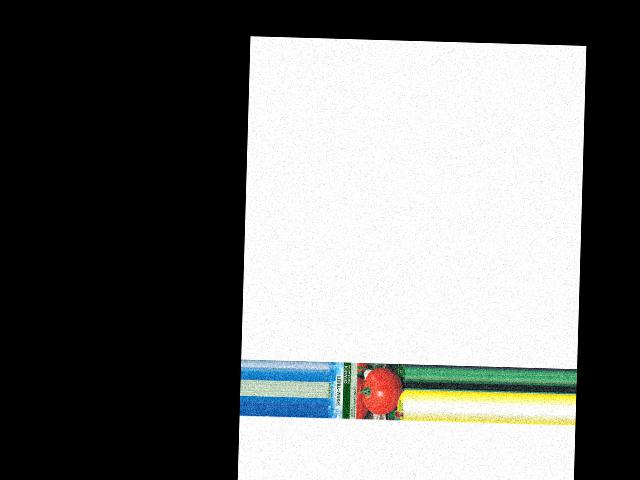tomato: (362, 367, 403, 415)
